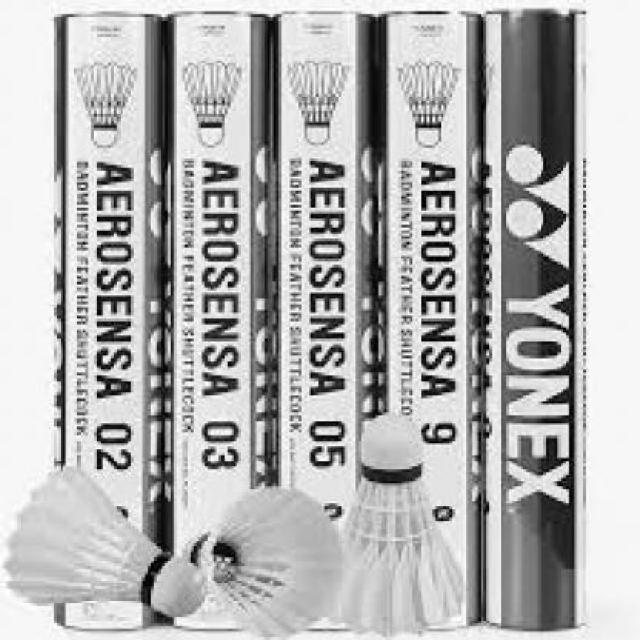Shuttlecock: (2, 468, 203, 614)
